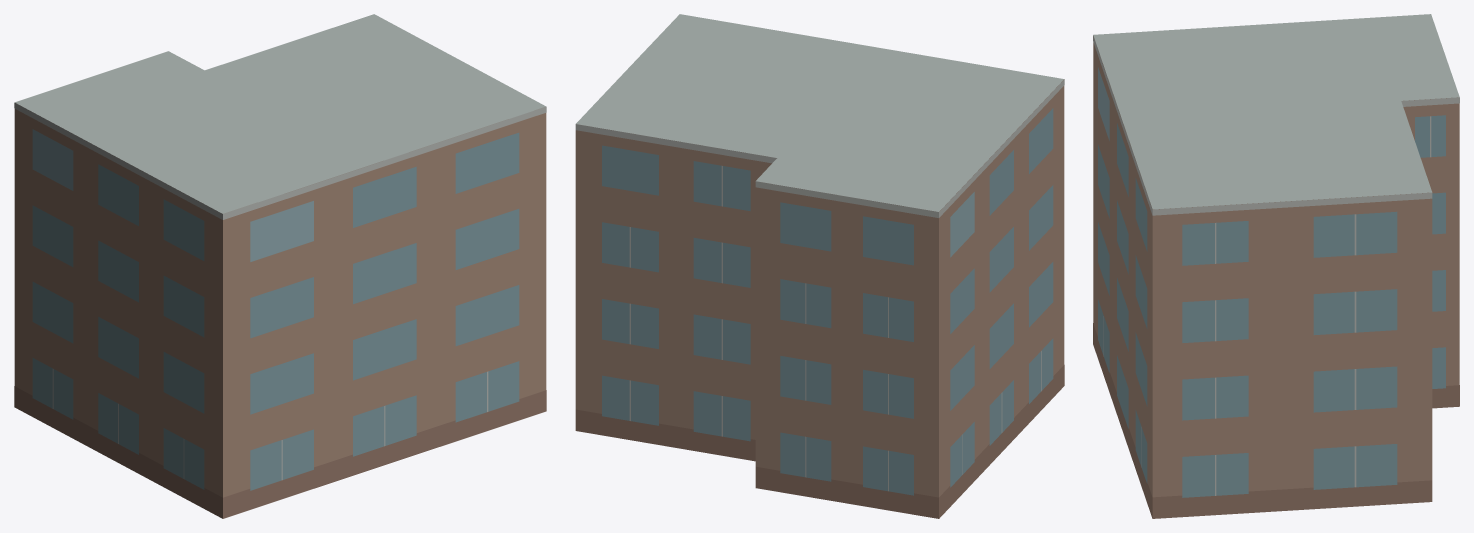
Rendered from residential-9f1df754-330d-4da7-aebd-757fe4ceffa2.glb.
3 renders of one model, left to right at view 1: azimuth 30°, elevation 25°; view 2: azimuth 150°, elevation 25°; view 3: azimuth 270°, elevation 25°, orthographic.
Visible parts, largest first — view 1: residential-9f1df754-330d-4da7-aebd-757fe4ceffa2.tmp; view 2: residential-9f1df754-330d-4da7-aebd-757fe4ceffa2.tmp; view 3: residential-9f1df754-330d-4da7-aebd-757fe4ceffa2.tmp.
Boxes of the visible parts, x1,y1,x2,y2 form: residential-9f1df754-330d-4da7-aebd-757fe4ceffa2.tmp: [14, 14, 546, 518]; residential-9f1df754-330d-4da7-aebd-757fe4ceffa2.tmp: [575, 14, 1064, 518]; residential-9f1df754-330d-4da7-aebd-757fe4ceffa2.tmp: [1093, 14, 1459, 518].
Bounding box in the file's own units: 16.54 × 12.2 × 13.11.
